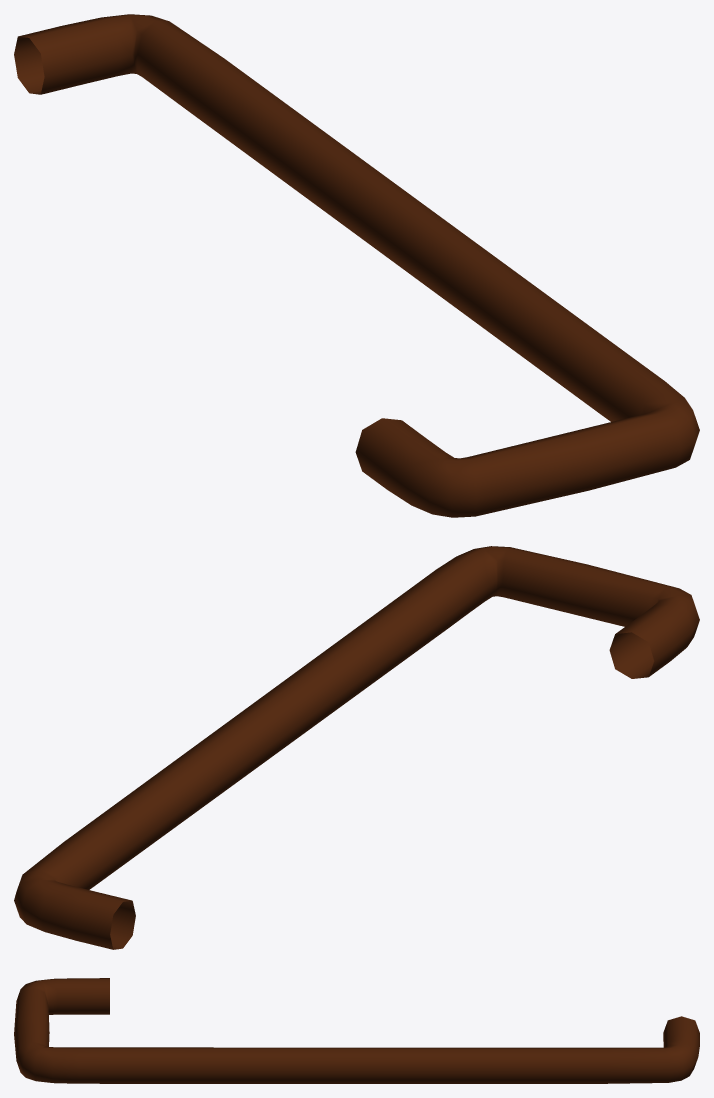
The model's file is Pipe_Corner_2.obj.
3 renders of one model, top to bottom at view 1: azimuth 30°, elevation 25°; view 2: azimuth 150°, elevation 25°; view 3: azimuth 270°, elevation 25°, orthographic. The views are drawn at different scales.
Parts seen in each view (by area): view 1: Pipe_Corner_2_Cube.039; view 2: Pipe_Corner_2_Cube.039; view 3: Pipe_Corner_2_Cube.039.
Boxes of the visible parts, x1,y1,x2,y2 form: Pipe_Corner_2_Cube.039: [14, 14, 699, 517]; Pipe_Corner_2_Cube.039: [14, 546, 699, 949]; Pipe_Corner_2_Cube.039: [14, 978, 699, 1083].
Size of the model in its own units: 1.15 by 0.2121 by 3.94.
